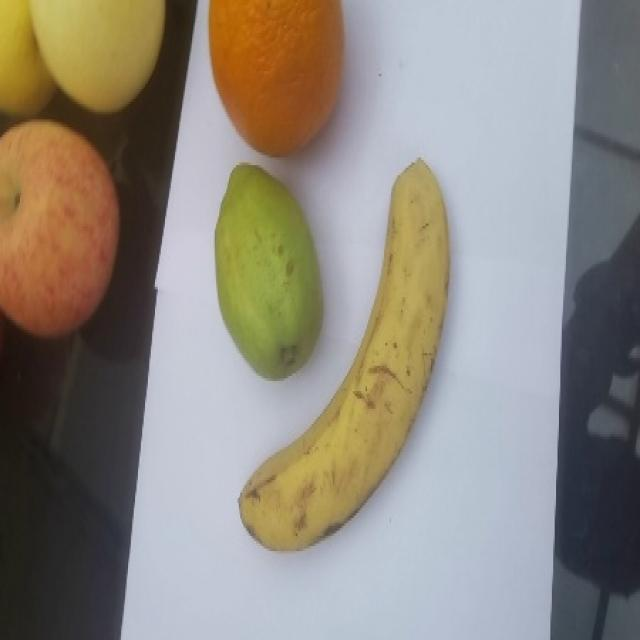Apple: (0, 118, 120, 339)
Banana: (237, 156, 450, 551)
Orange: (207, 0, 344, 157)
